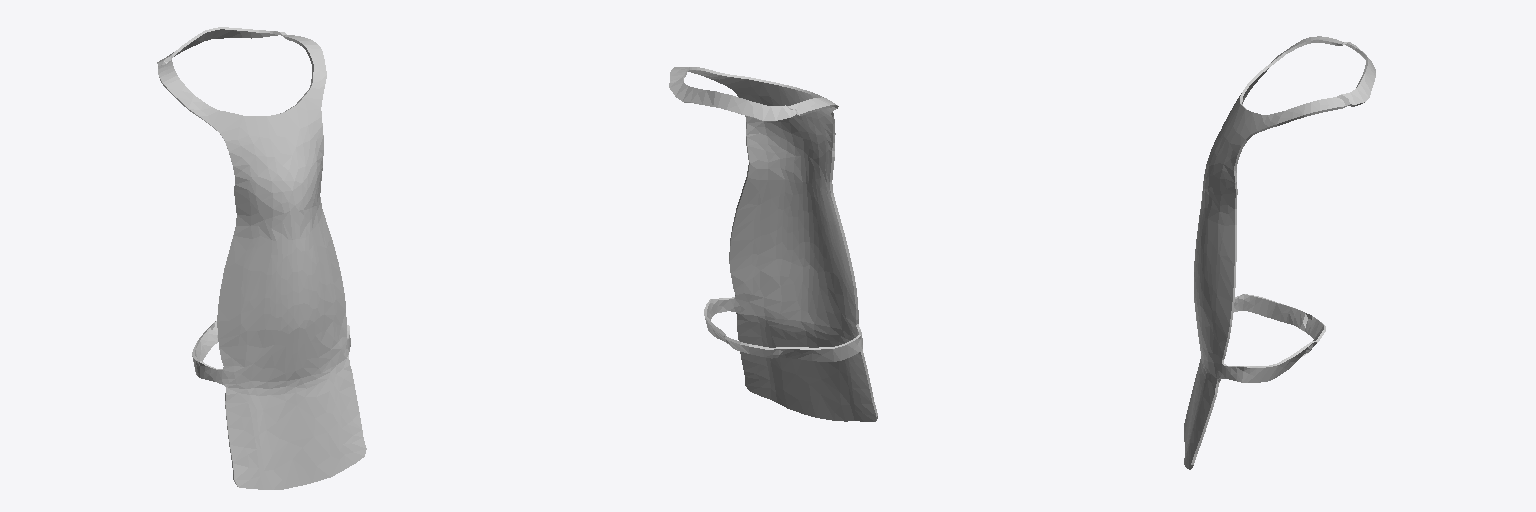
Rendered from apron_3_dense.obj.
3 renders of one model, left to right at view 1: azimuth 30°, elevation 25°; view 2: azimuth 150°, elevation 25°; view 3: azimuth 270°, elevation 25°, orthographic.
Visible parts, largest first — view 1: apron_3.004; view 2: apron_3.004; view 3: apron_3.004.
Part boxes in pixels (bbox=[...]): apron_3.004: bbox=[157, 27, 366, 489]; apron_3.004: bbox=[669, 67, 877, 421]; apron_3.004: bbox=[1184, 36, 1375, 469].
Size of the model in its own units: 0.6328 by 1.51 by 0.6757.